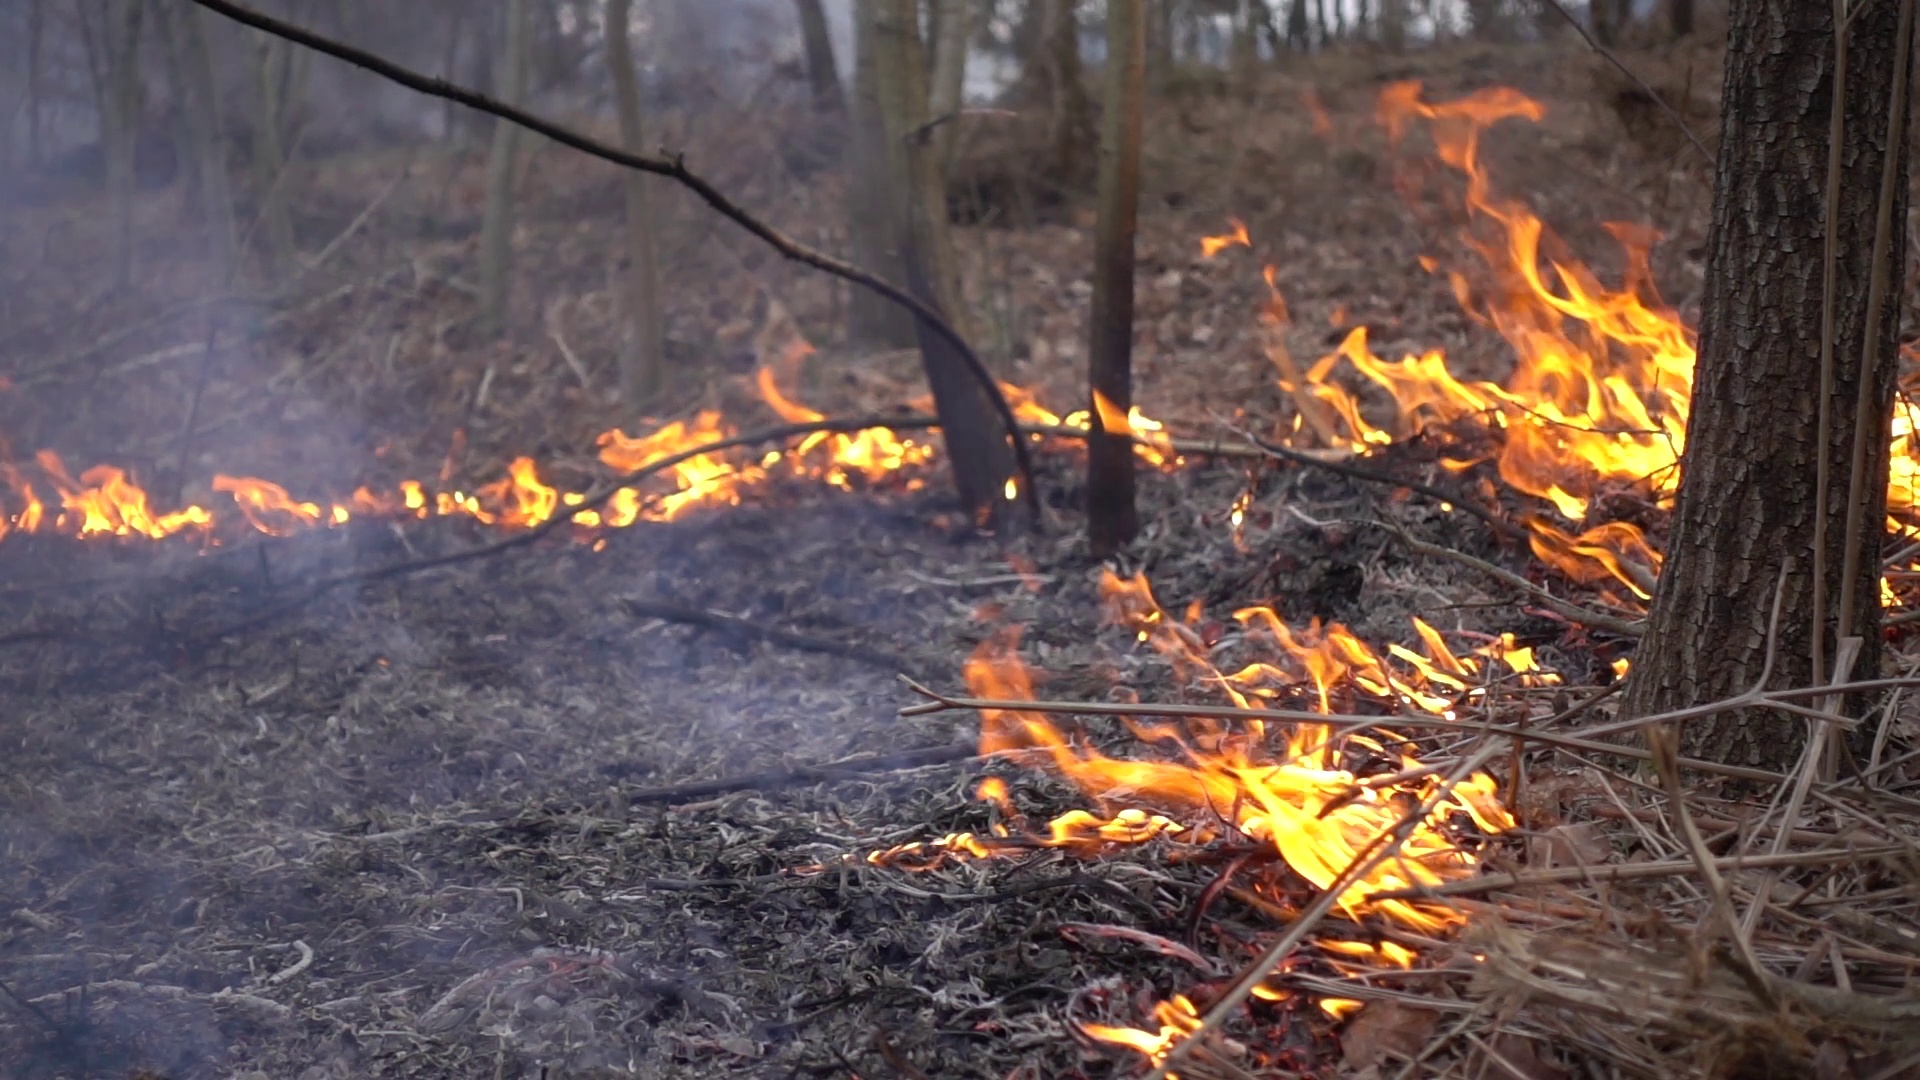fire: (967, 613, 1513, 1026), (1251, 161, 1695, 512), (587, 392, 906, 517), (21, 451, 199, 539), (406, 458, 555, 527), (218, 465, 320, 535), (1009, 385, 1085, 444), (1888, 400, 1920, 509)
